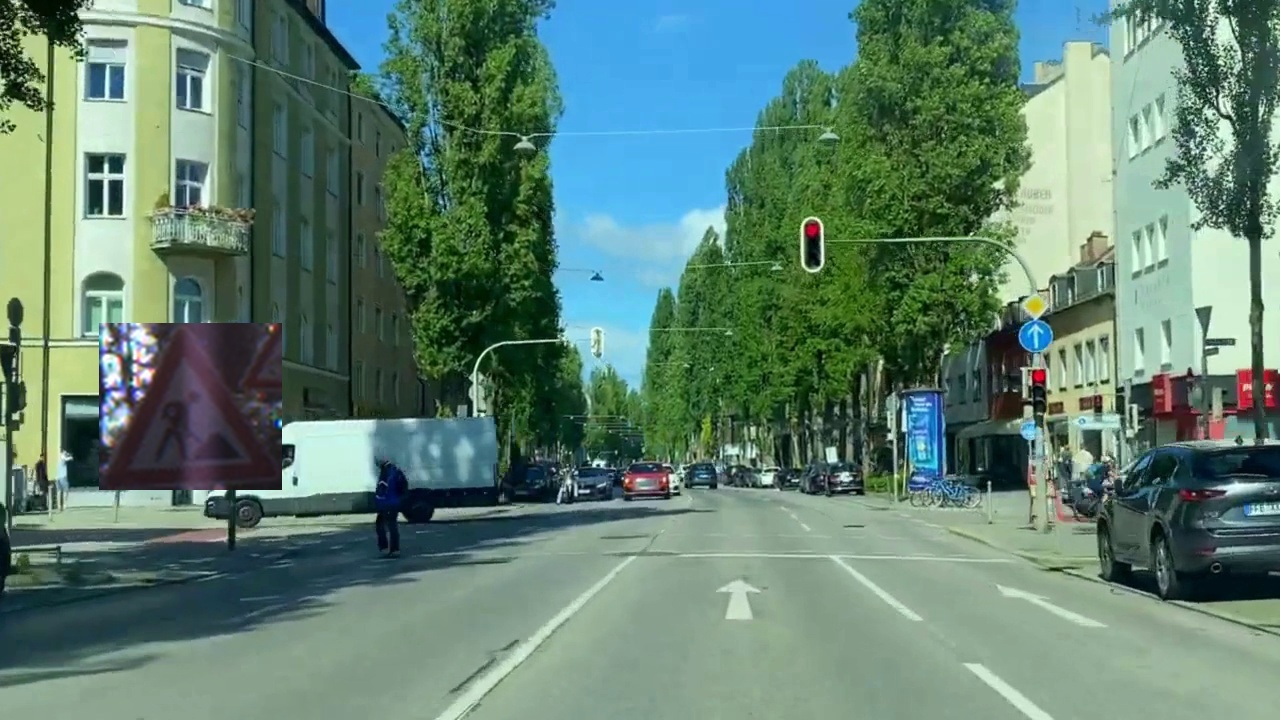Road work: (99, 323, 282, 490)
